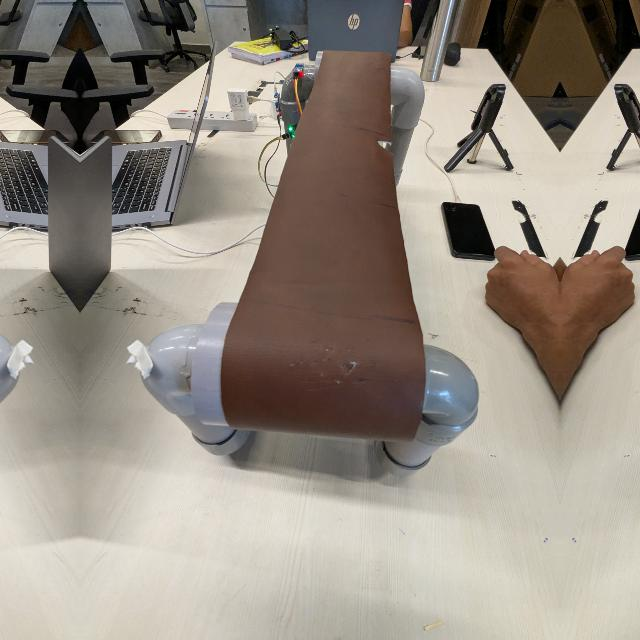belt_crack: (290, 334, 384, 400)
belt_tear: (368, 125, 395, 154)
